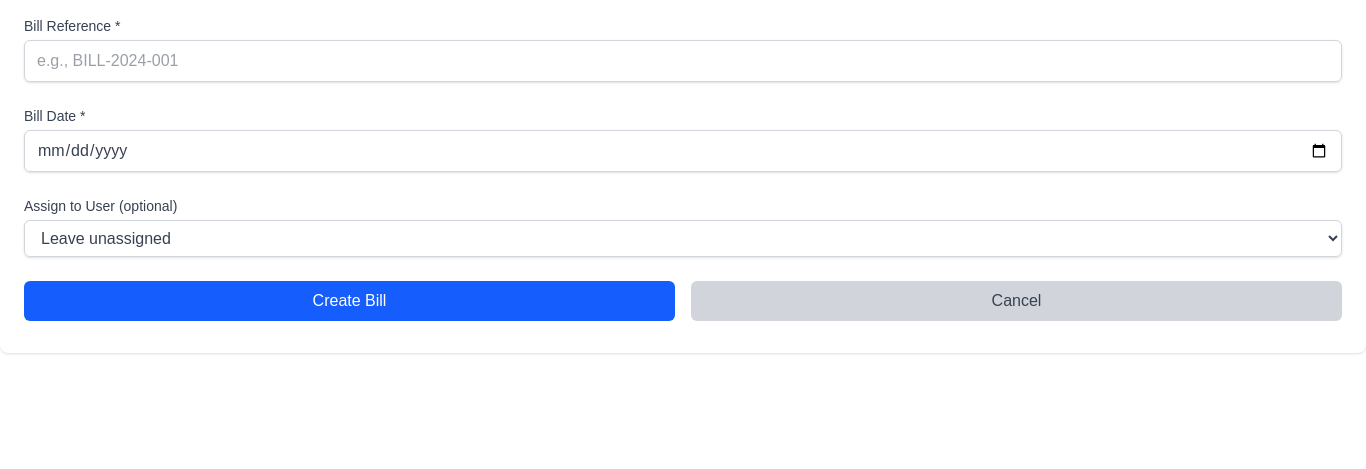
Test case: BillForm › shows error when validation fails
Type "BILL-EXISTING" into the field with test id "bill-reference-input" at point(683, 61), box left=24, top=40, right=1342, bottom=82
Wait 500 ms
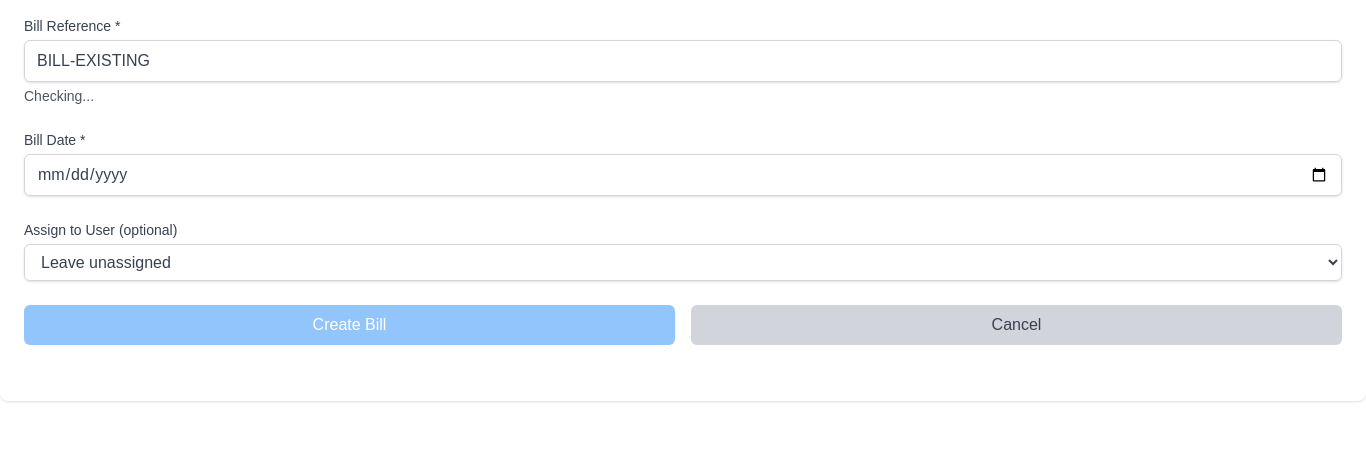
Type "2024-01-01" into the date field with test id "bill-date-input" at point(683, 175), box left=24, top=154, right=1342, bottom=196
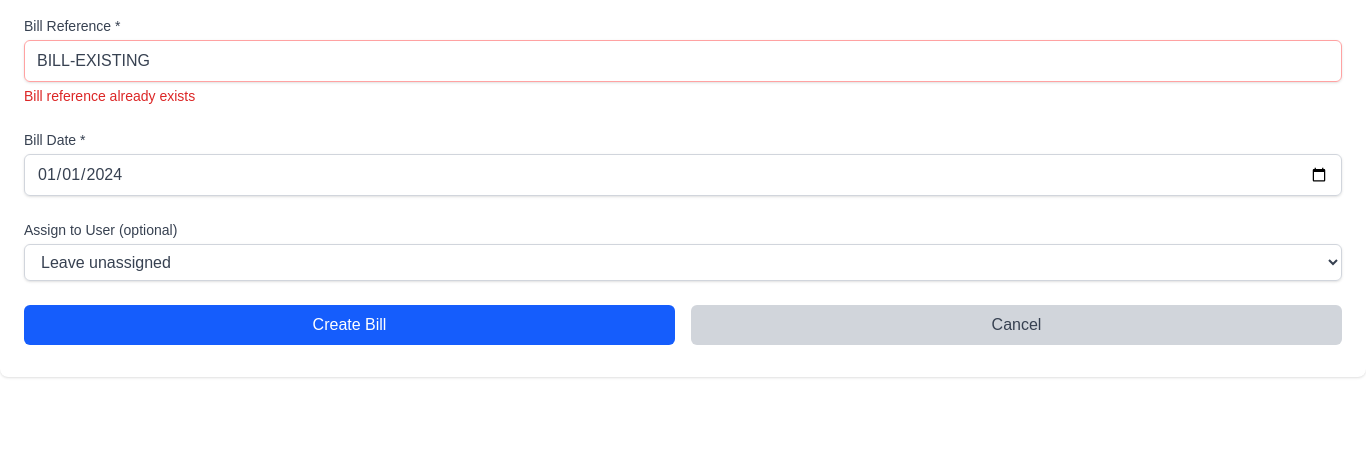
Click the button with test id "submit-button" at point(350, 325), box left=24, top=305, right=675, bottom=345
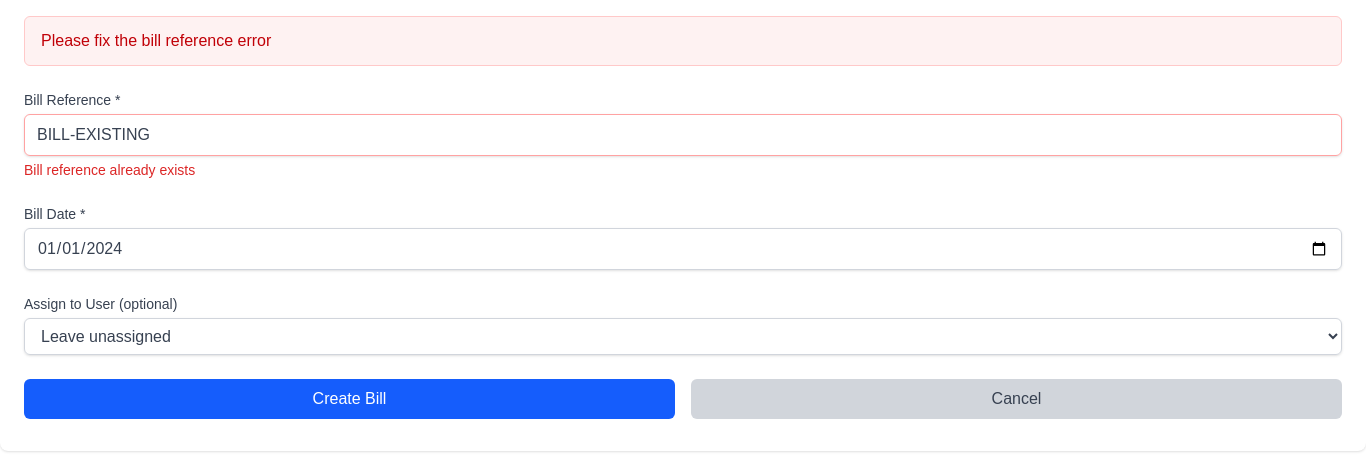
Now the message with test id "form-error" reads "Please fix the bill reference error", box left=41, top=32, right=271, bottom=49
